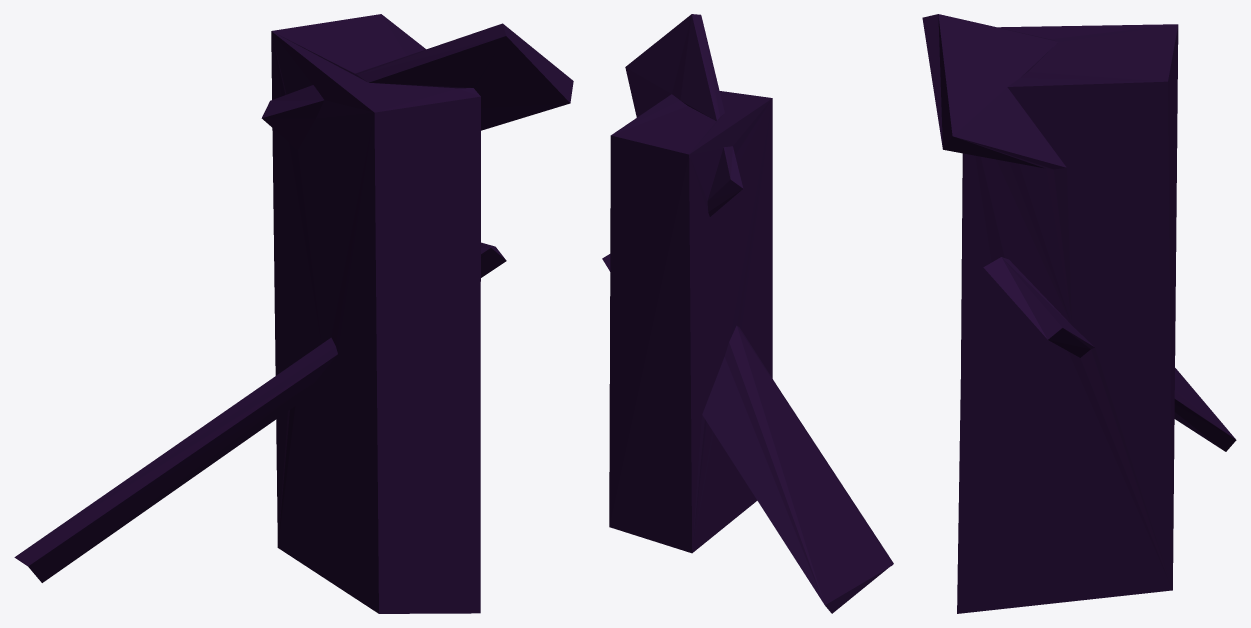
3 views of the same model, side by side, from view 1: azimuth 30°, elevation 25°; view 2: azimuth 150°, elevation 25°; view 3: azimuth 270°, elevation 25° (orthographic). The views are drawn at different scales.
Parts seen in each view (by area): view 1: 087_Cube.359; view 2: 087_Cube.359; view 3: 087_Cube.359.
Boxes of the visible parts, x1,y1,x2,y2 form: 087_Cube.359: [14, 14, 573, 613]; 087_Cube.359: [602, 14, 893, 613]; 087_Cube.359: [922, 14, 1236, 613].
Size of the model in its own units: 11.2 by 14.11 by 6.62.
